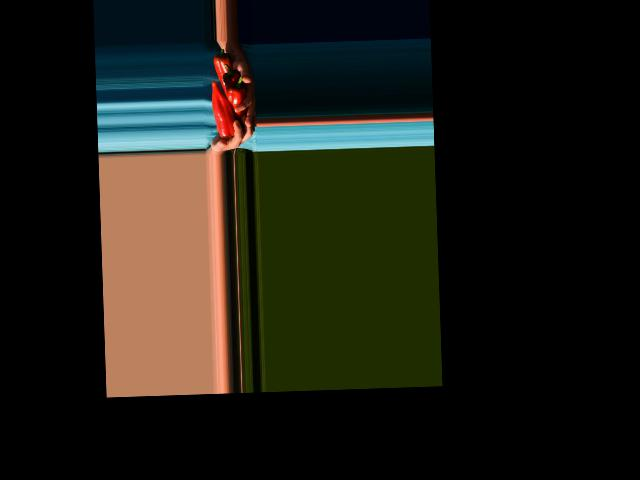bell_pepper: (213, 48, 234, 86)
